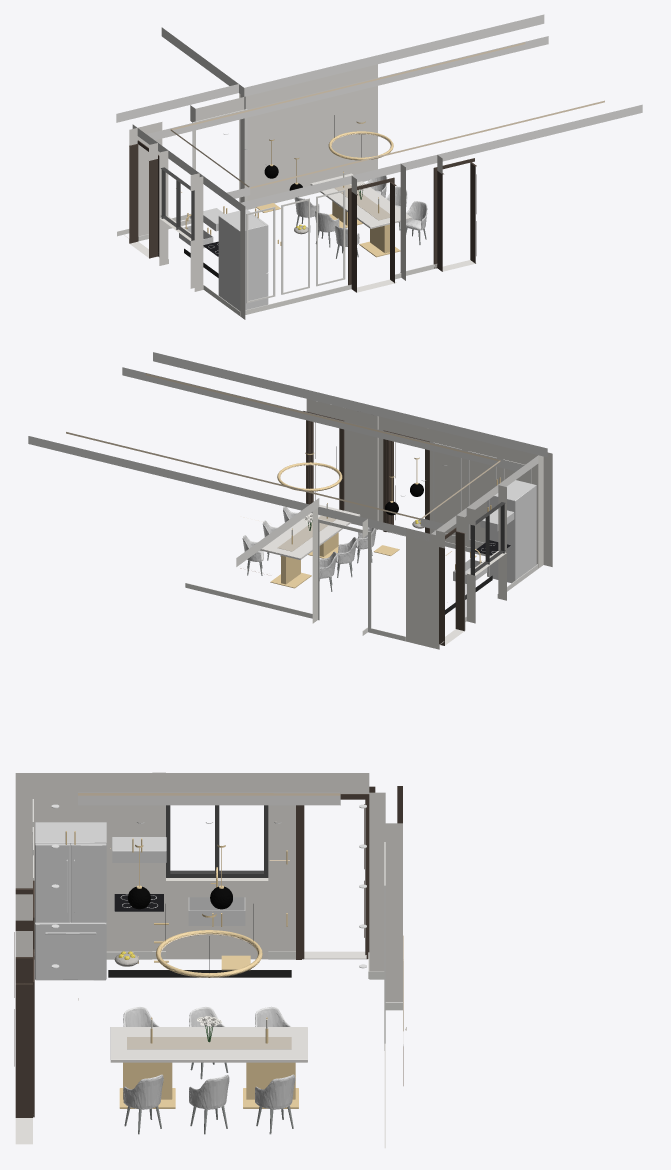
The model's file is KITDIN.glb.
3 renders of one model, top to bottom at view 1: azimuth 30°, elevation 25°; view 2: azimuth 150°, elevation 25°; view 3: azimuth 270°, elevation 25°, orthographic. The views are drawn at different scales.
Parts seen in each view (by area): view 1: WEB_KITDIN; view 2: WEB_KITDIN; view 3: WEB_KITDIN.
Boxes of the visible parts, x1,y1,x2,y2 form: WEB_KITDIN: (116, 14, 642, 319); WEB_KITDIN: (28, 352, 552, 649); WEB_KITDIN: (14, 772, 406, 1148).
Size of the model in its own units: 12.09 by 2.7 by 7.82.
